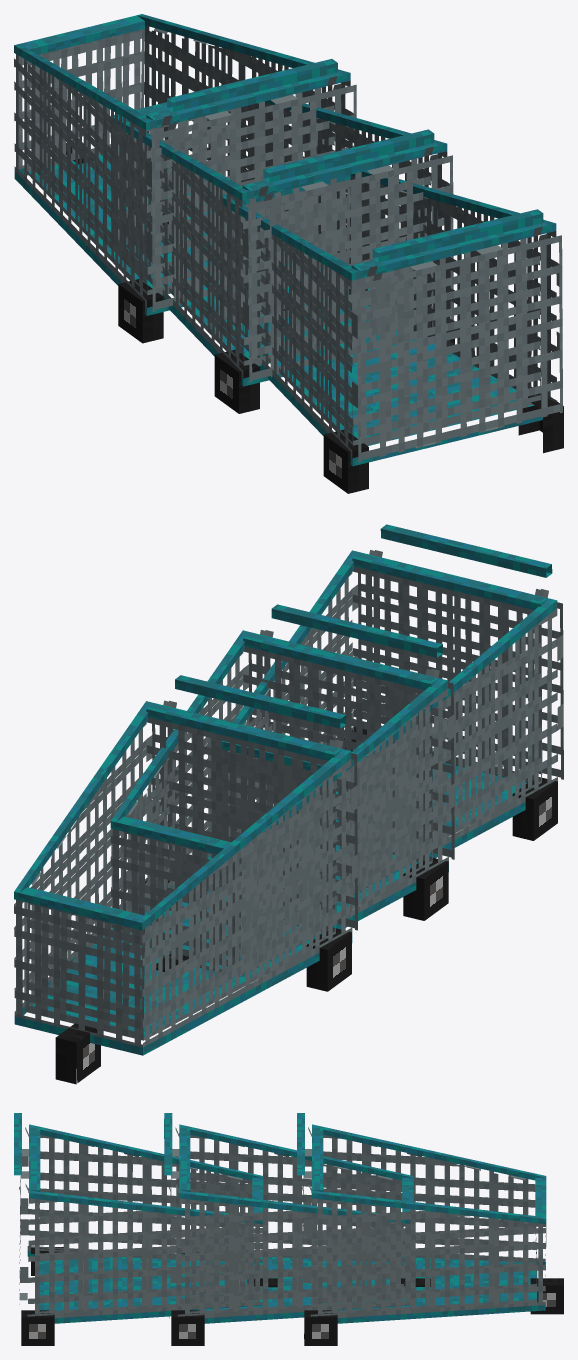
File: BGN_SHOPPING CART GROUP.fbx
3 renders of one model, top to bottom at view 1: azimuth 30°, elevation 25°; view 2: azimuth 150°, elevation 25°; view 3: azimuth 270°, elevation 25°, orthographic. The views are drawn at different scales.
Visible parts, largest first — view 1: BGN_SHOPPING CART GROUP; view 2: BGN_SHOPPING CART GROUP; view 3: BGN_SHOPPING CART GROUP.
Part boxes in pixels (x1,y1,x2,y2): BGN_SHOPPING CART GROUP: (14,14,563,493); BGN_SHOPPING CART GROUP: (14,524,563,1084); BGN_SHOPPING CART GROUP: (14,1113,563,1345).
Size of the model in its own units: 86.26 by 96.8 by 286.
